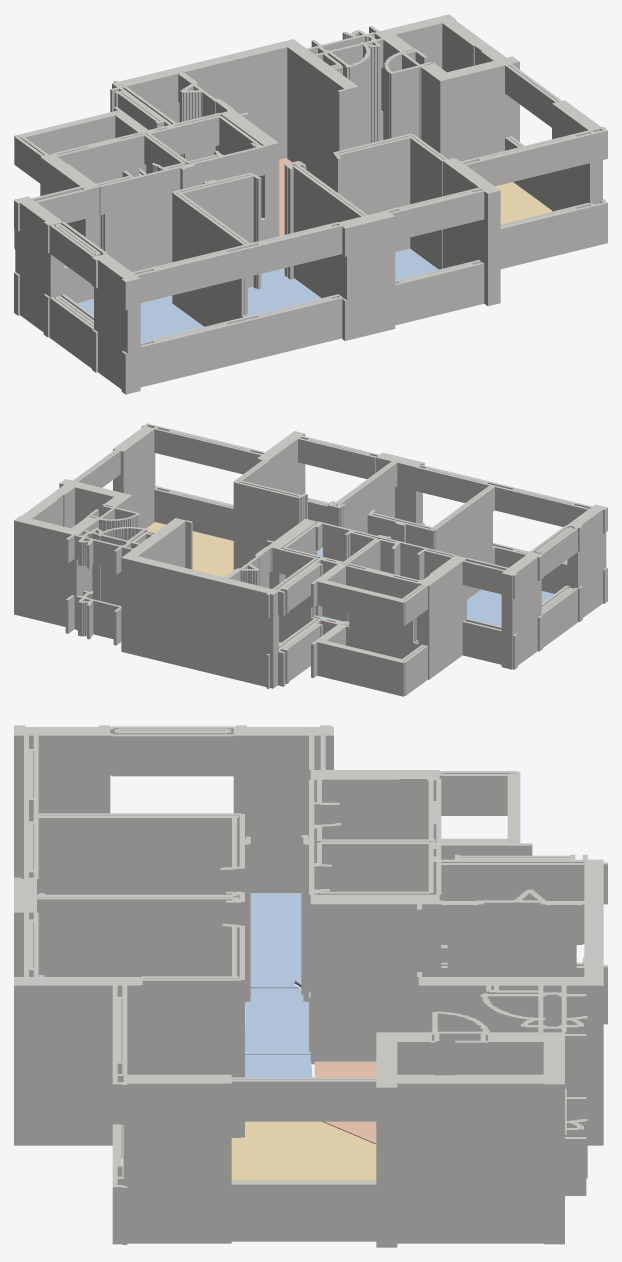
3 renders of one model, top to bottom at view 1: azimuth 30°, elevation 25°; view 2: azimuth 150°, elevation 25°; view 3: azimuth 270°, elevation 25°, orthographic. The views are drawn at different scales.
Parts seen in each view (by area): view 1: walls, room:bedroom:6, room:bedroom:3, room:living:4, room:bedroom:5; view 2: walls, room:living:4, room:bedroom:6; view 3: walls, room:living:4, room:bedroom:6, room:bedroom:3, room:kitchen:2, room:bedroom:5.
Boxes of the visible parts, box(x1,y1,x2,y2) form: walls: box(14, 14, 607, 394); room:bedroom:6: box(77, 295, 203, 342); room:bedroom:3: box(248, 268, 321, 315); room:living:4: box(495, 182, 551, 223); room:bedroom:5: box(395, 248, 438, 279); walls: box(14, 423, 607, 696); room:living:4: box(146, 522, 233, 577); room:bedroom:6: box(467, 589, 553, 626); walls: box(14, 725, 607, 1247); room:living:4: box(231, 1121, 376, 1179); room:bedroom:6: box(39, 893, 301, 988); room:bedroom:3: box(39, 975, 310, 1054); room:kitchen:2: box(314, 1061, 376, 1144); room:bedroom:5: box(245, 1055, 312, 1077).
Size of the model in its own units: 13.59 by 2.8 by 9.42.
